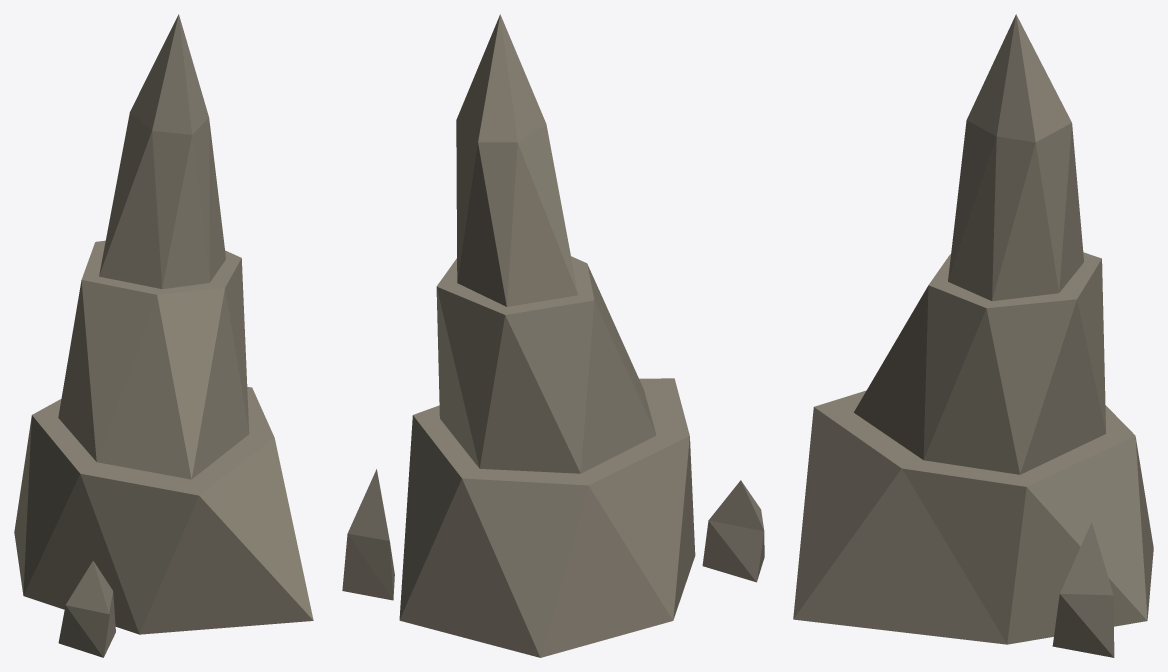
Rendered from RC_Stalagmite.fbx.
3 views of the same model, side by side, from view 1: azimuth 30°, elevation 25°; view 2: azimuth 150°, elevation 25°; view 3: azimuth 270°, elevation 25° (orthographic). The views are drawn at different scales.
Parts seen in each view (by area): view 1: RC_Stalagmite_Rock; view 2: RC_Stalagmite_Rock; view 3: RC_Stalagmite_Rock.
Part boxes in pixels (x1,y1,x2,y2): RC_Stalagmite_Rock: [14, 14, 313, 657]; RC_Stalagmite_Rock: [342, 14, 764, 657]; RC_Stalagmite_Rock: [793, 14, 1153, 657].
Size of the model in its own units: 5 by 9 by 5.
